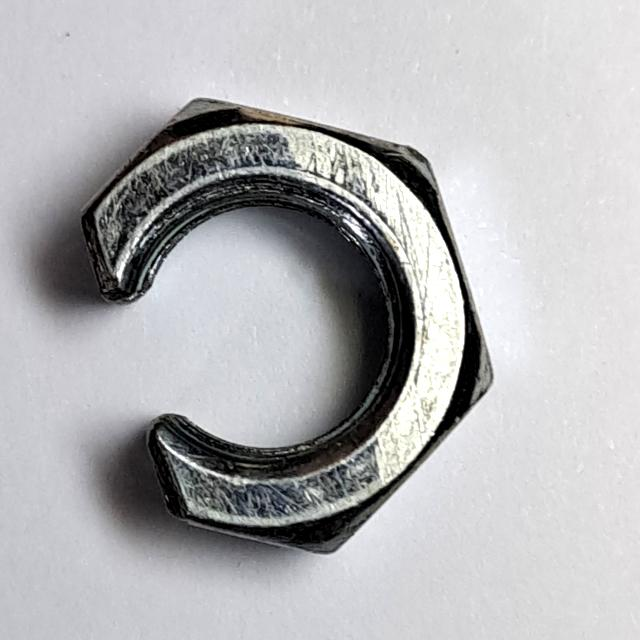Fracture: (66, 79, 513, 570)
